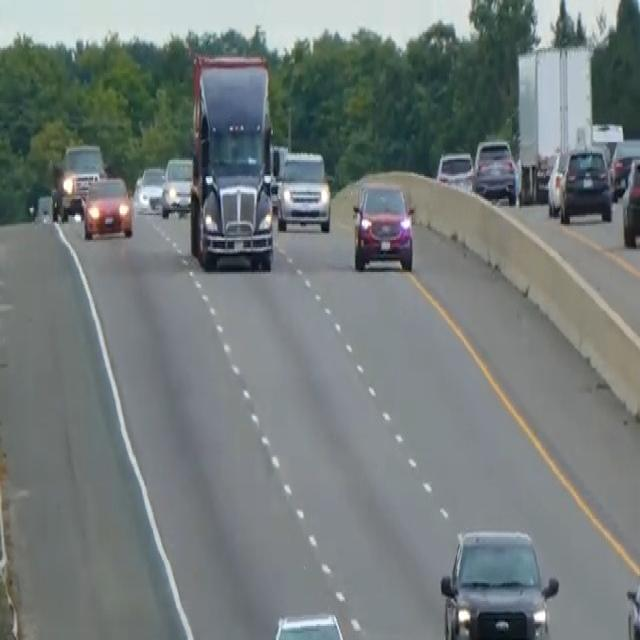car: (438, 524, 559, 638), (351, 178, 415, 272), (276, 147, 331, 233), (558, 142, 613, 224), (54, 140, 107, 220), (81, 174, 134, 240), (472, 137, 517, 204), (268, 610, 346, 638), (160, 154, 193, 218), (610, 137, 639, 197), (436, 148, 474, 192), (621, 155, 639, 247), (546, 146, 568, 215), (136, 164, 164, 214)
lorry: (187, 50, 276, 272)
